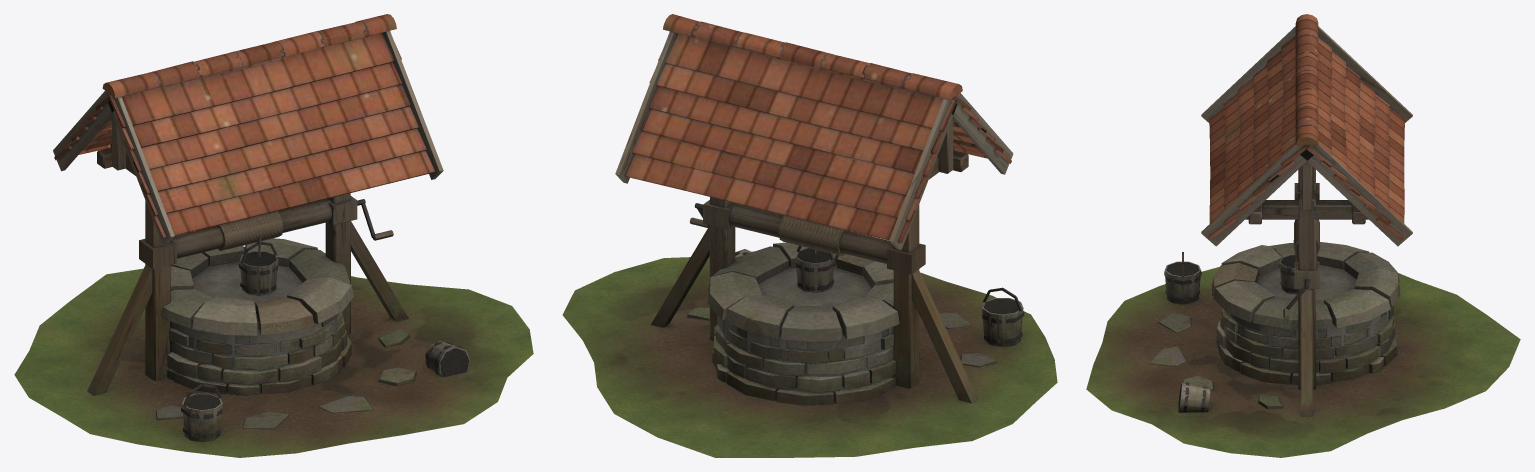
Rendered from well.glb.
3 renders of one model, left to right at view 1: azimuth 30°, elevation 25°; view 2: azimuth 150°, elevation 25°; view 3: azimuth 270°, elevation 25°, orthographic. The views are drawn at different scales.
Visible parts, largest first — view 1: well_LOD0; view 2: well_LOD0; view 3: well_LOD0.
Part boxes in pixels (x1,y1,x2,y2): well_LOD0: [14, 14, 533, 457]; well_LOD0: [562, 14, 1057, 457]; well_LOD0: [1086, 14, 1520, 457].
Size of what is drawn, in the model's own units: 4.55 by 3 by 4.2.
1 material, 1 textured.
